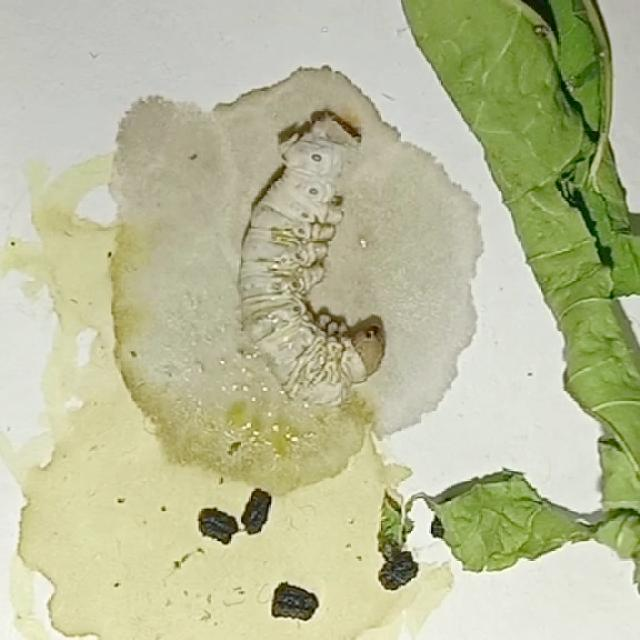Grasserie: (157, 77, 460, 514)
